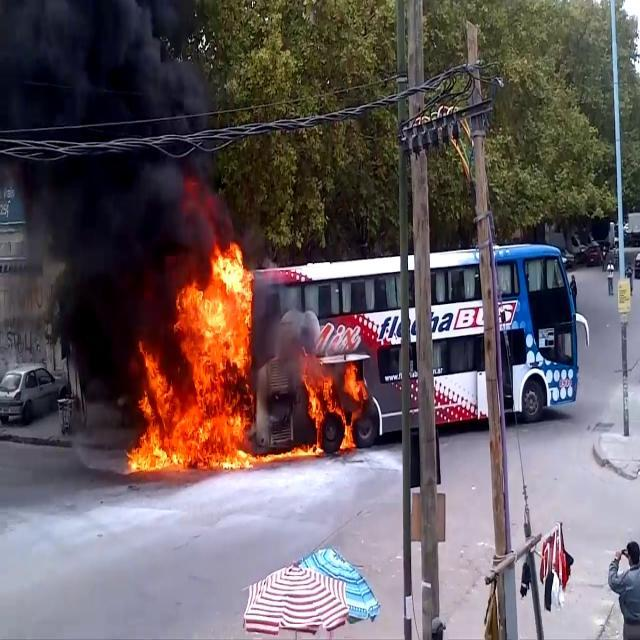Fire: (129, 229, 259, 476), (303, 354, 365, 452)
Smoke: (0, 0, 218, 384)
